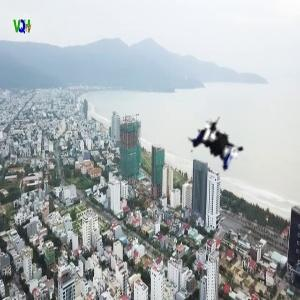drone: (169, 115, 259, 205)
